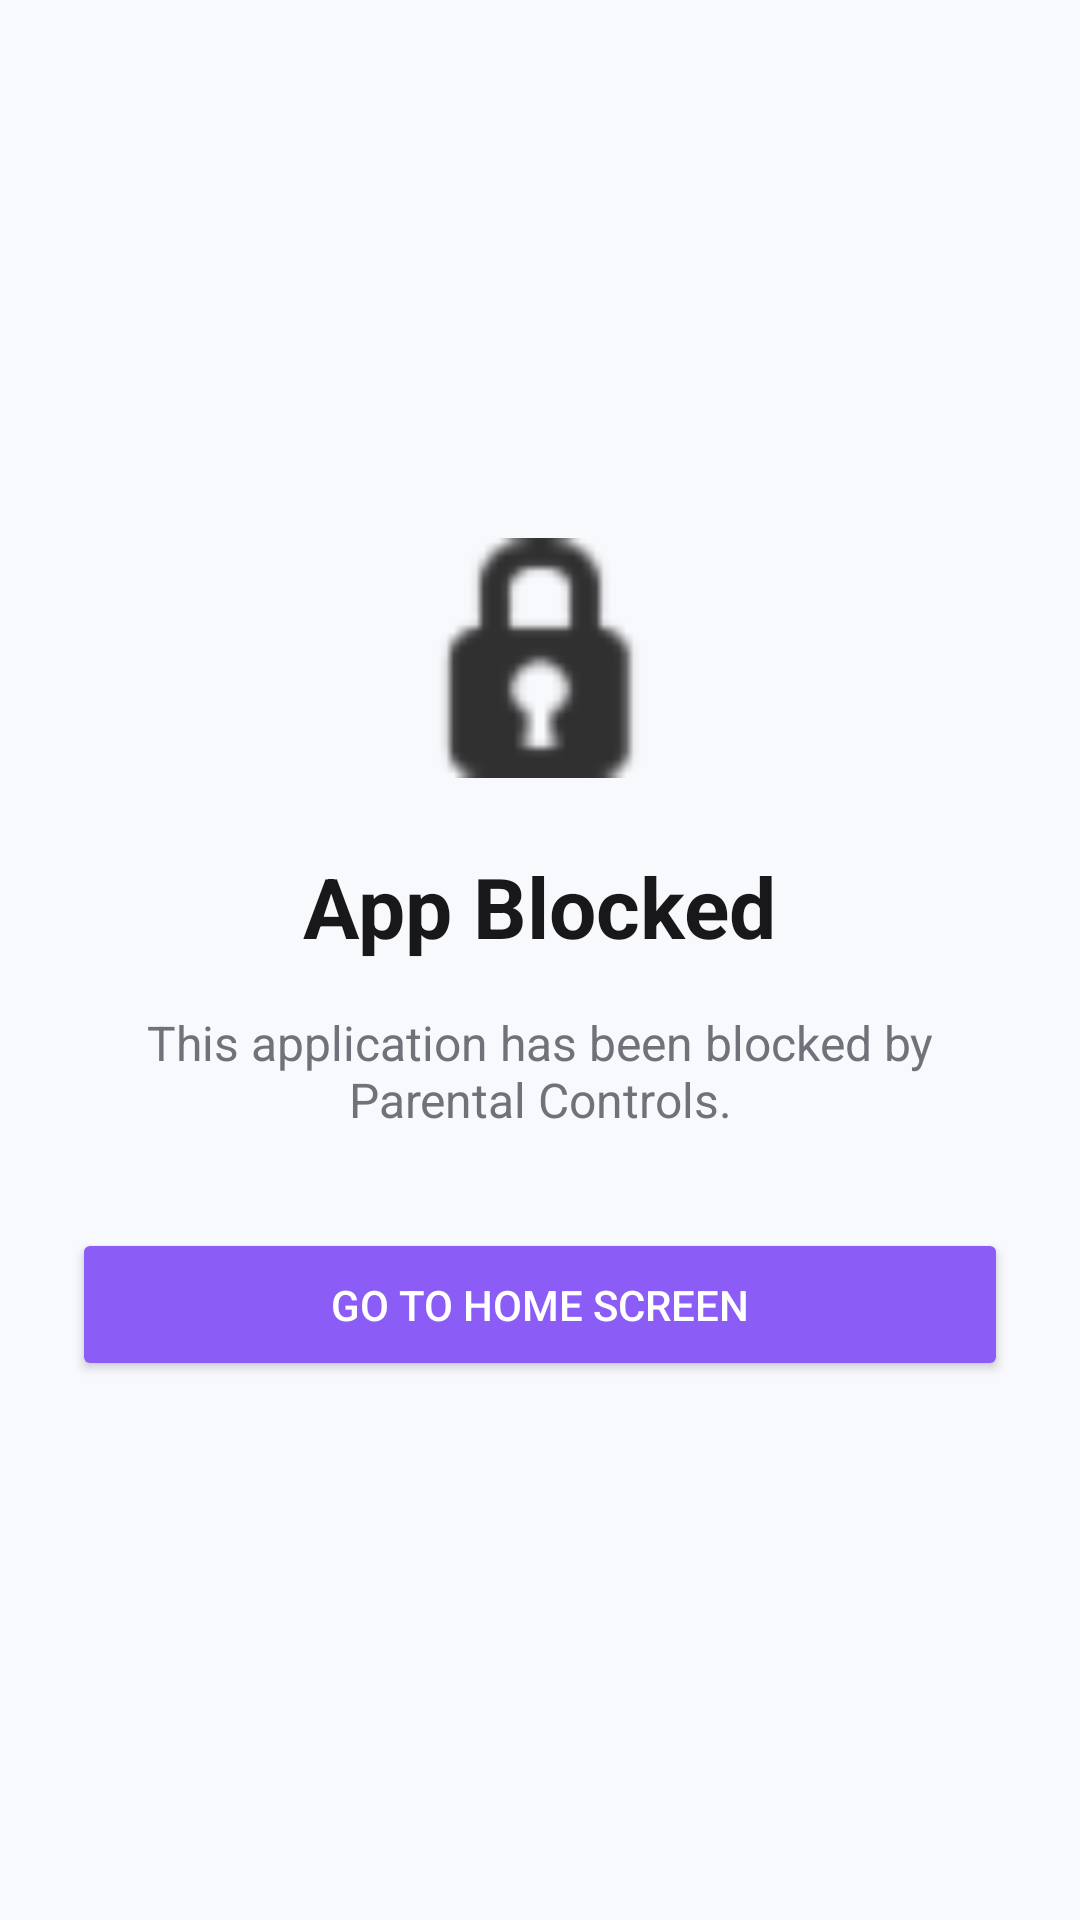

Icons on this 1080 × 1920 Android screen, each with its box as [x1,y1,x2,y2]:
secure: [445,538,633,778]
